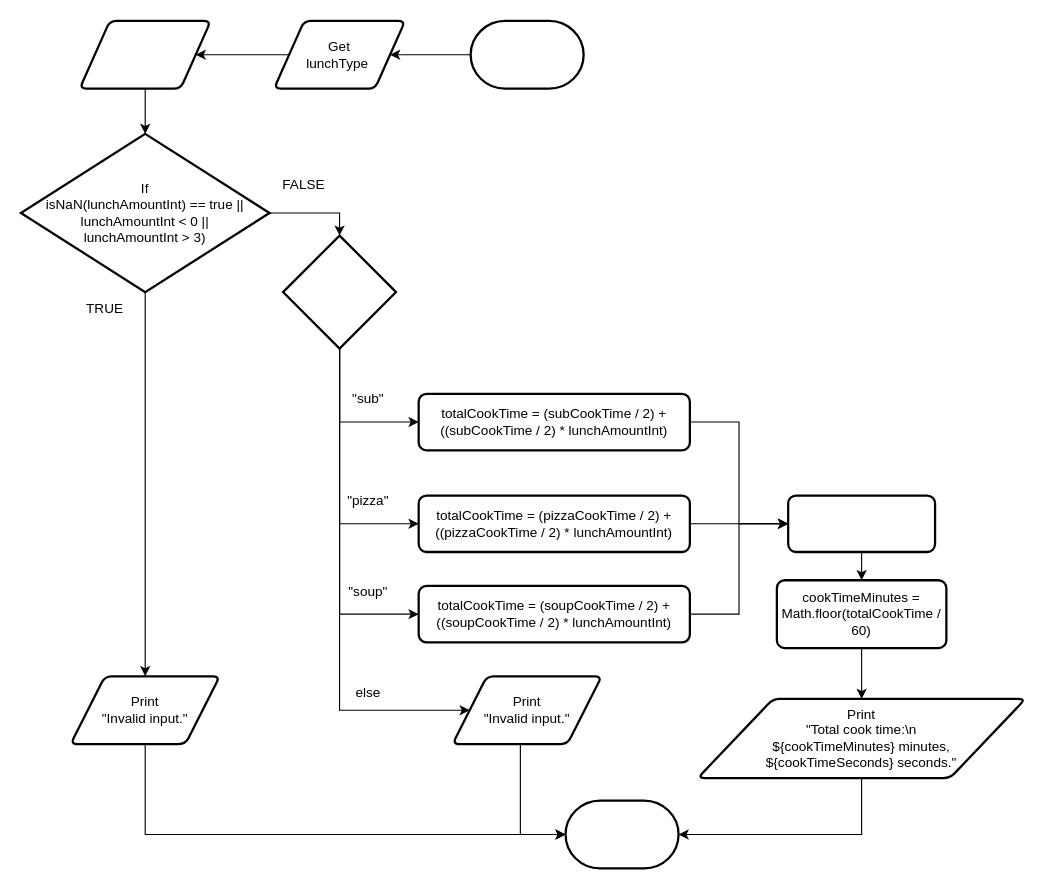
This 1045x888 diagram has some shape labels left out. Each missing label, with the centre of its shape:
"cookTimeSeconds = totalCookTime % 60" goes at [861,523].
"Get lunchAmount" goes at [144,54].
"If lunchType" goes at [339,291].
"Start" goes at [526,54].
"Stop" goes at [621,834].
